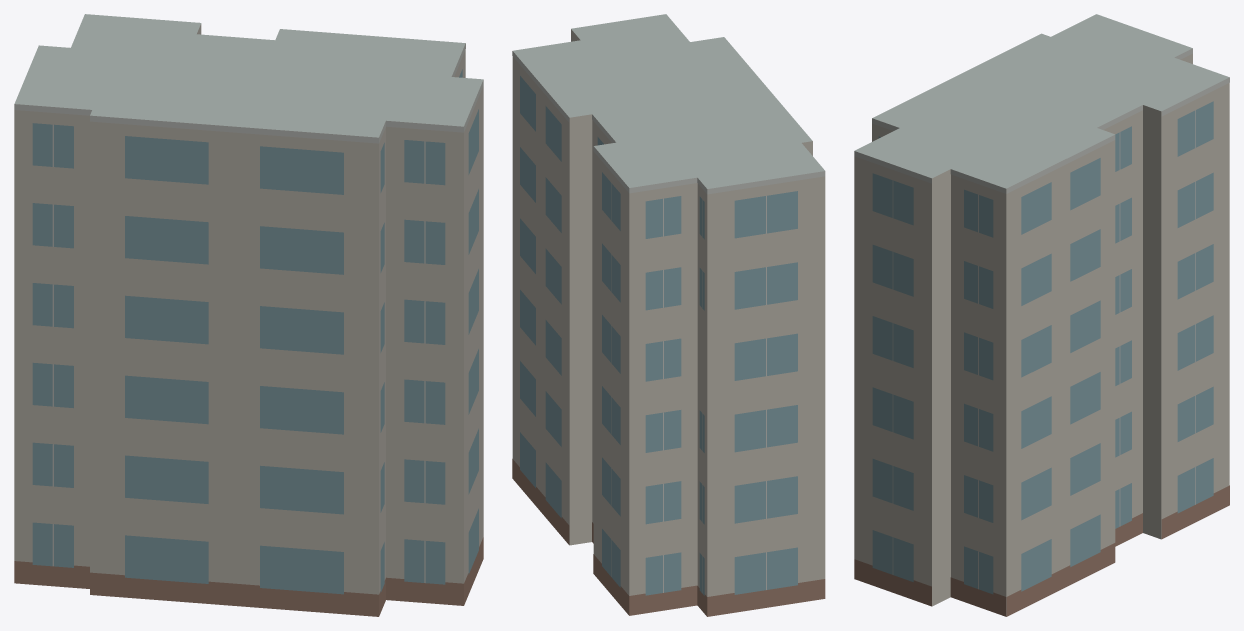
File: survey-upis-32926407.glb
The picture shows the model from 3 angles, left to right: view 1: azimuth 30°, elevation 25°; view 2: azimuth 150°, elevation 25°; view 3: azimuth 270°, elevation 25°; orthographic projection. The views are drawn at different scales.
Parts seen in each view (by area): view 1: survey-upis-32926407.tmp; view 2: survey-upis-32926407.tmp; view 3: survey-upis-32926407.tmp.
Part boxes in pixels (x1,y1,x2,y2): survey-upis-32926407.tmp: [14, 14, 483, 616]; survey-upis-32926407.tmp: [512, 14, 825, 616]; survey-upis-32926407.tmp: [854, 14, 1229, 616].
Bounding box in the file's own units: 17.12 × 19.55 × 15.55.
